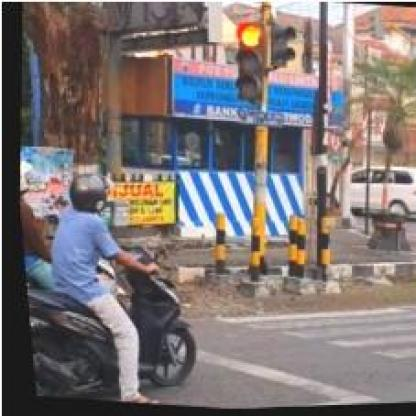red: (223, 22, 268, 106)
